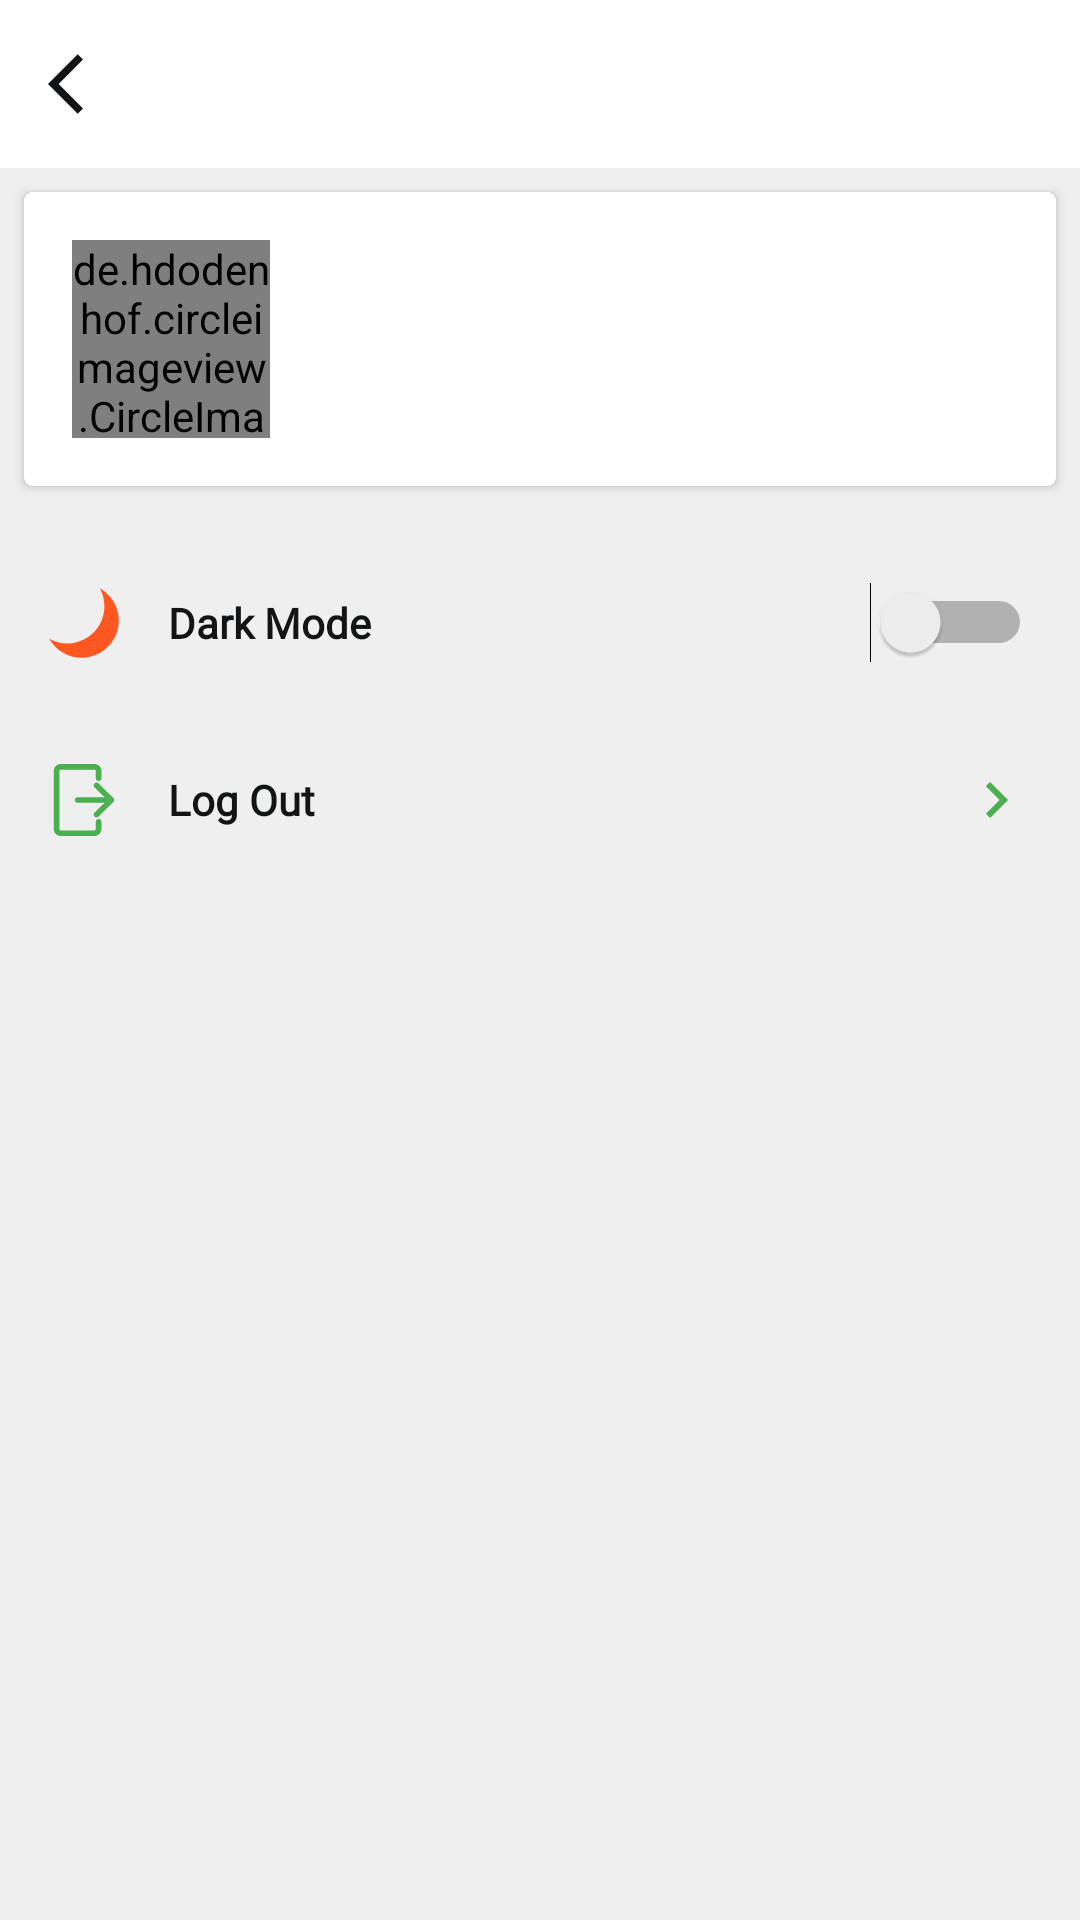

Locate icon controls on the screen. Image size 1080 × 1920, boxes as (x1, y1, x2, y2).
back: (48, 54, 83, 114)
exit: (53, 764, 114, 836)
night: (49, 588, 119, 658)
